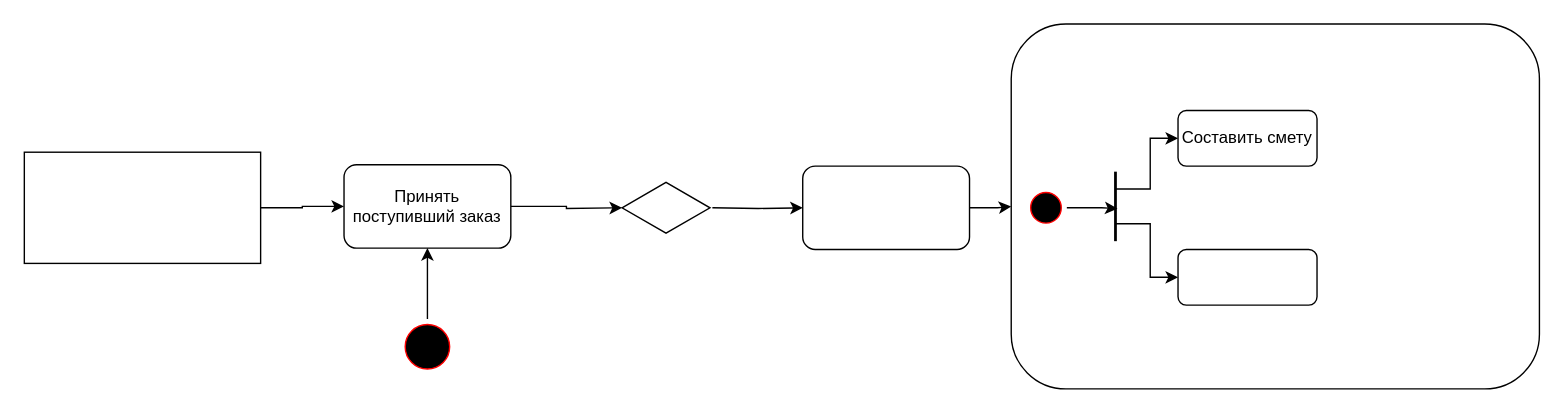
The diagram is 1564 pixels wide and 414 high, and some of its shapes have lost their labels. Each missing label, with the box of its shape:
Заполнить список услуг: (801, 165, 970, 250)
Поступивший заказ на добычу гранитного щебня: (23, 151, 261, 263)
